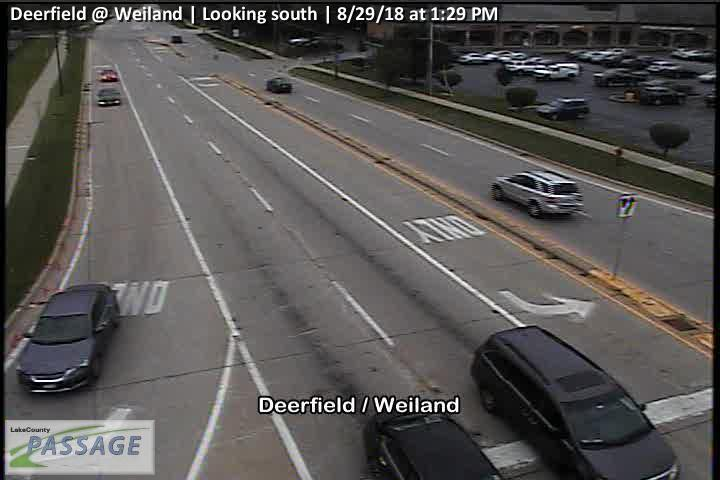SUV: (470, 326, 683, 480), (492, 170, 585, 216)
Sedan: (16, 284, 119, 397), (533, 96, 592, 119), (532, 62, 580, 80), (96, 89, 122, 108), (457, 52, 493, 65), (266, 78, 294, 92)
